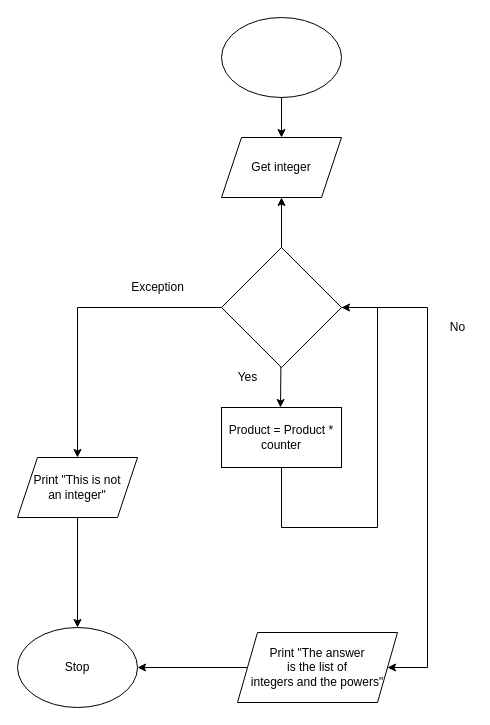
The diagram is 490 pixels wide and 725 high, and some of its shapes have lost their labels. Each missing label, with the box of its shape:
For counter = 1; counter <= integer: counter++: (220, 246, 342, 368)
Start: (220, 16, 342, 98)
